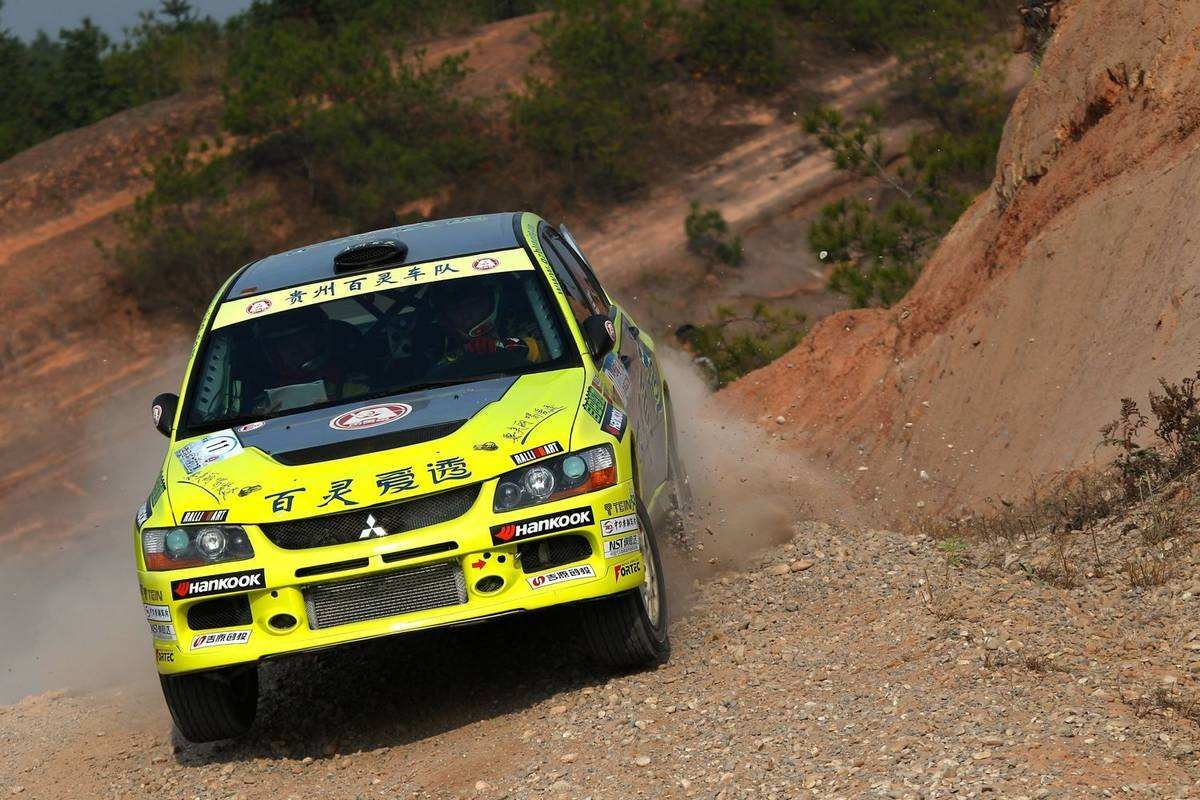racing car: (121, 197, 672, 735)
